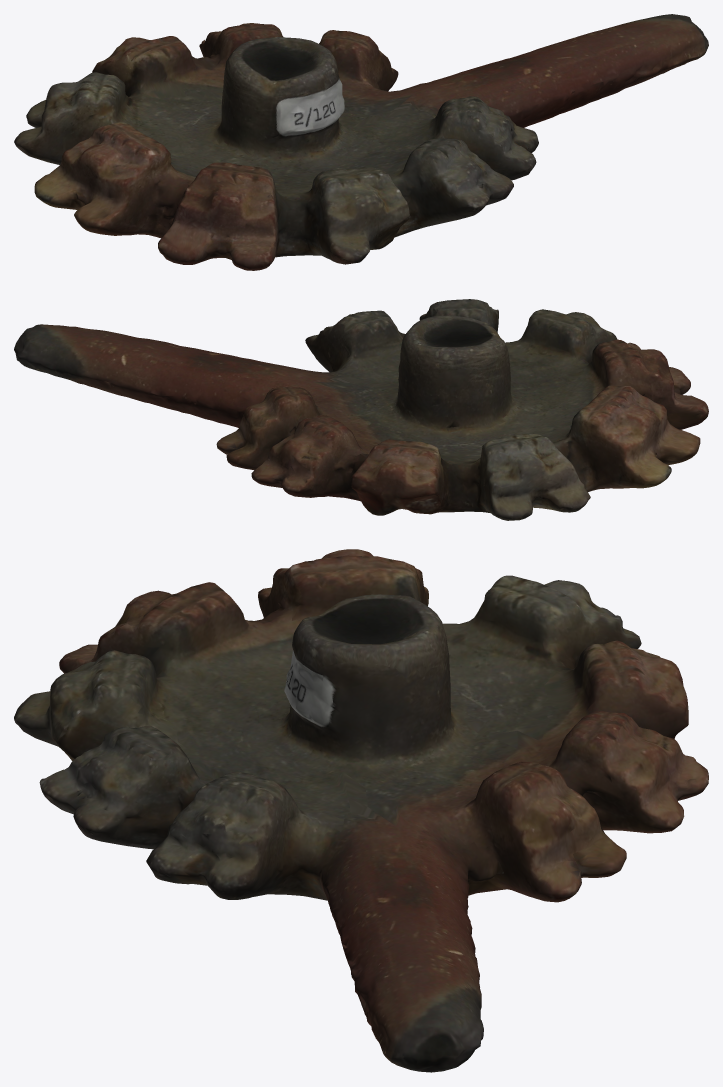
Rendered from pipa inca unity.FBX.
The picture shows the model from 3 angles, top to bottom: view 1: azimuth 30°, elevation 25°; view 2: azimuth 150°, elevation 25°; view 3: azimuth 270°, elevation 25°; orthographic projection. The views are drawn at different scales.
Visible parts, largest first — view 1: default; view 2: default; view 3: default.
Boxes of the visible parts, left/top/right/bottom form: default: left=14, top=14, right=708, bottom=270; default: left=14, top=299, right=708, bottom=520; default: left=14, top=549, right=708, bottom=1072.
Size of the model in its own units: 0.9554 by 0.1985 by 0.6172.
Materials: 1 (1 with a texture image).
